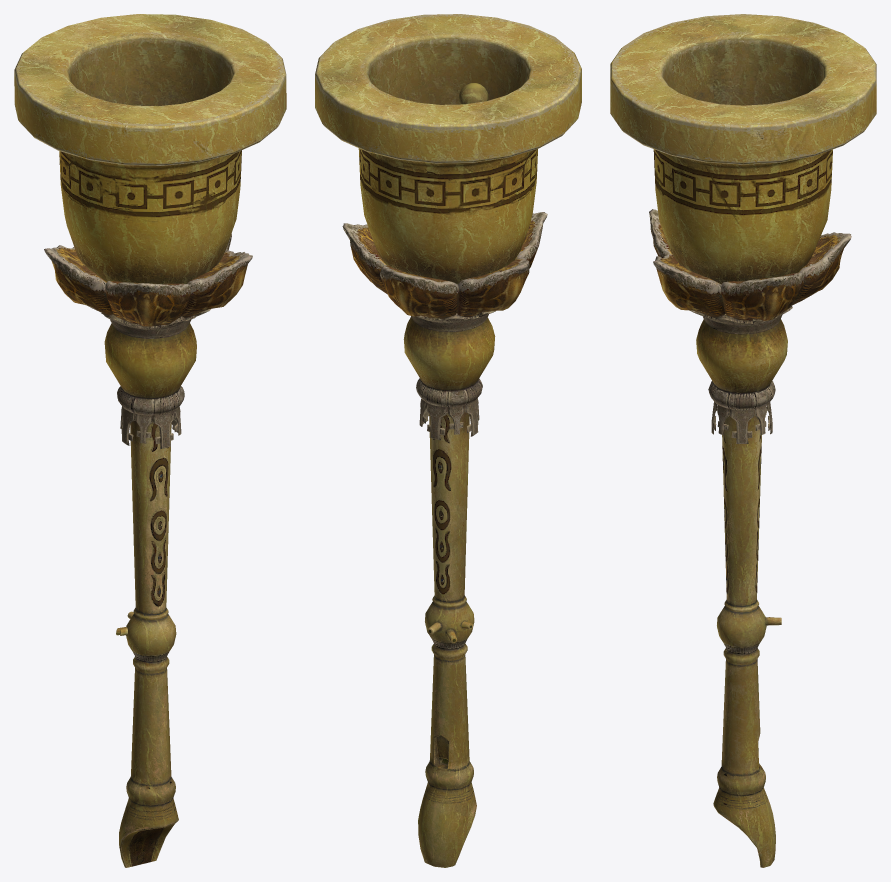
File: hue021.obj
3 renders of one model, left to right at view 1: azimuth 30°, elevation 25°; view 2: azimuth 150°, elevation 25°; view 3: azimuth 270°, elevation 25°, orthographic.
Visible parts, largest first — view 1: hue021_001_LOD_1; view 2: hue021_001_LOD_1, hue021_000_LOD_1; view 3: hue021_001_LOD_1.
Part boxes in pixels (x1=…): hue021_001_LOD_1: x1=14, y1=14, x2=286, y2=867; hue021_001_LOD_1: x1=315, y1=14, x2=581, y2=867; hue021_000_LOD_1: x1=459, y1=83, x2=488, y2=104; hue021_001_LOD_1: x1=610, y1=14, x2=876, y2=867.
Bounding box in the file's own units: 89.63 × 291 × 88.74.
